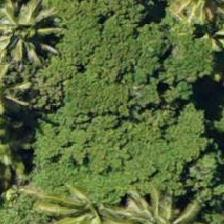coconut_tree: (0, 0, 67, 74), (37, 176, 127, 223)
